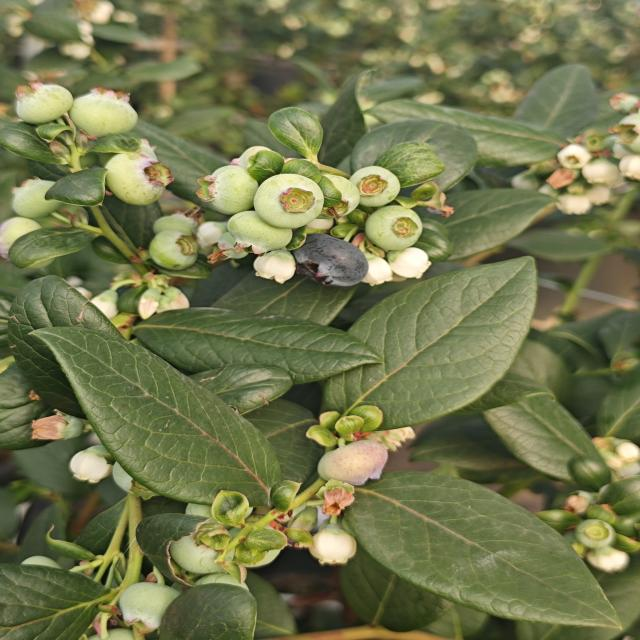ripe: (293, 225, 368, 286)
